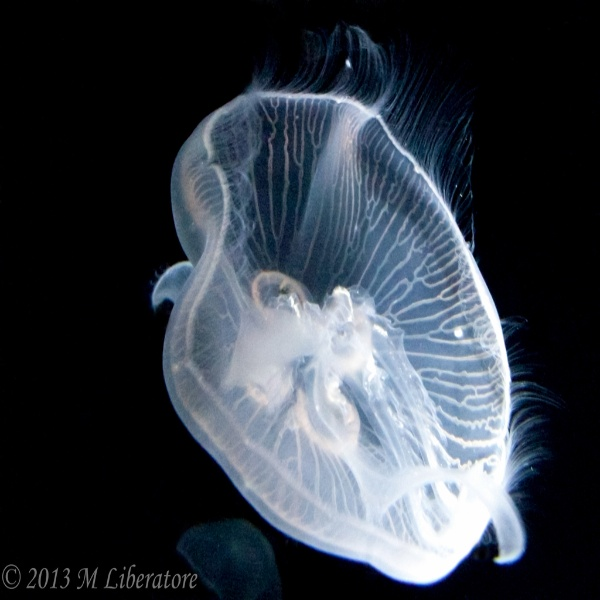Jellyfish: (150, 26, 560, 586), (175, 518, 281, 600)
